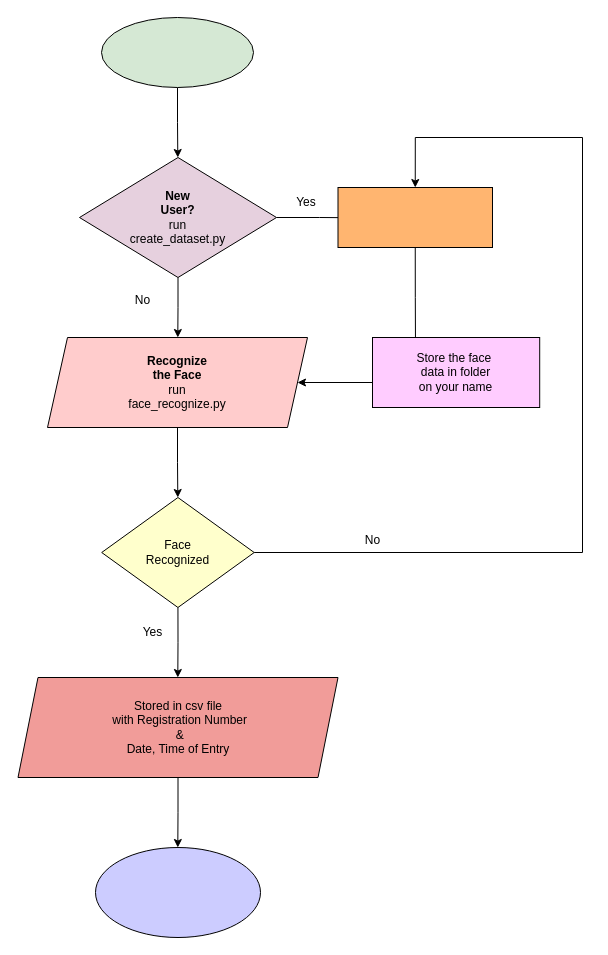
This 608x955 diagram has some shape labels left out. The centre of each missing label's shape, as x and y in pixels:
End: the point at 177,892
Give your photograph: the point at 414,217
Start: the point at 177,52
